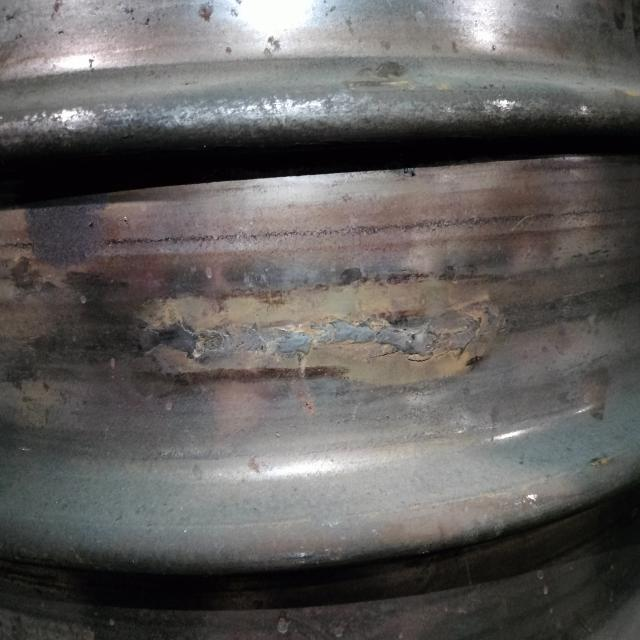flat: (118, 290, 495, 383)
